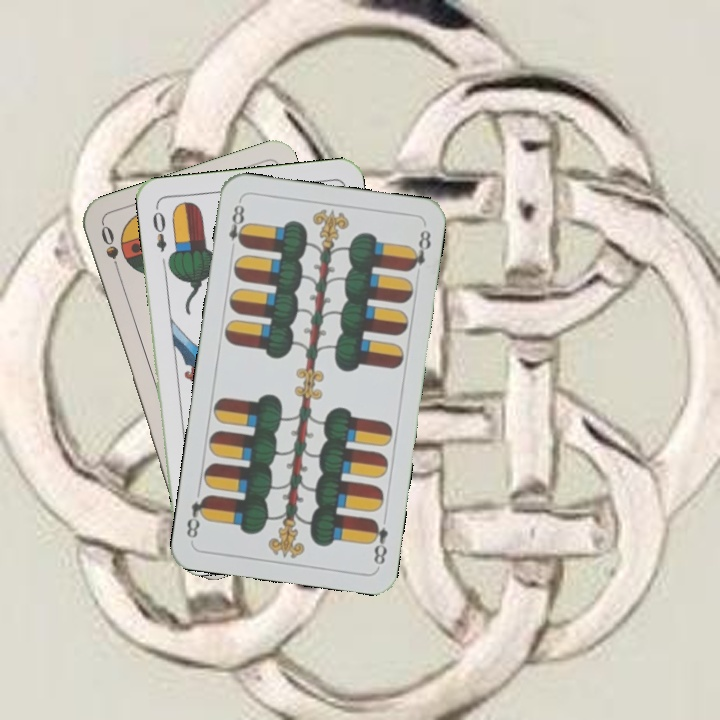E8: (224, 197, 249, 249), (366, 515, 391, 567)
EO: (148, 202, 169, 255)
SO: (97, 221, 124, 279)
